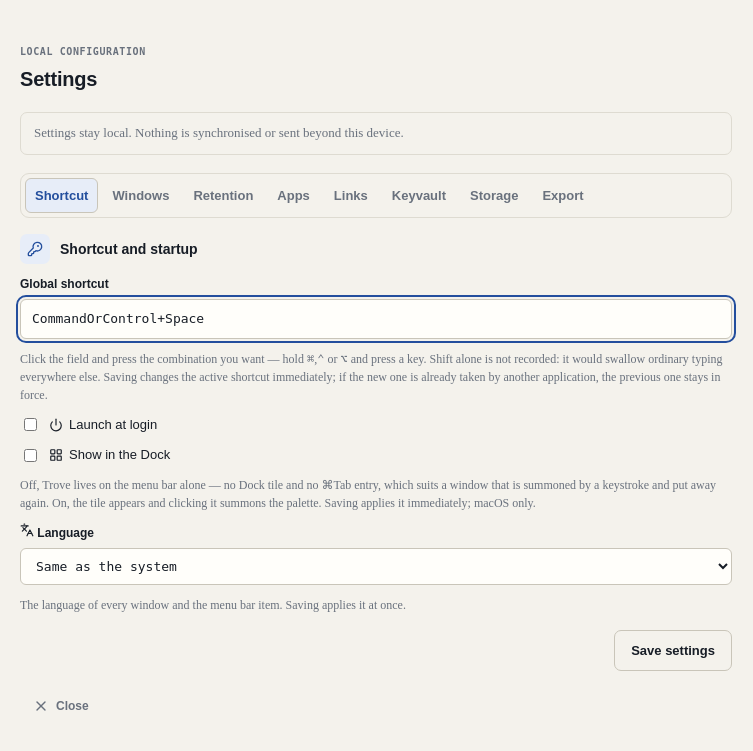
settings tabs › lists every snap position with its recorded chord
The image size is (753, 751).
Click the tab "Windows": (141, 196) [102,178,179,213]
(page scrolled)
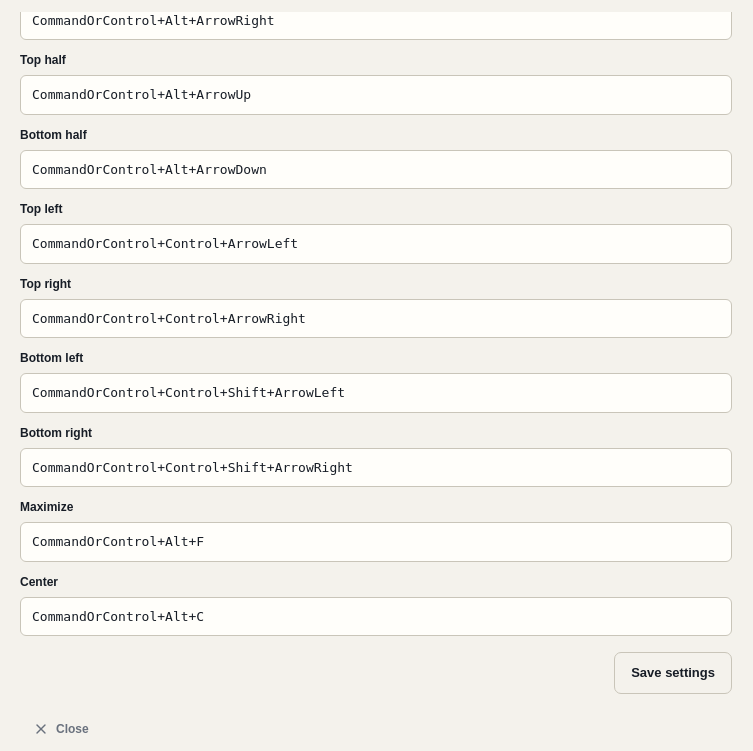
Result: the field labelled "Right half" holds "CommandOrControl+Alt+ArrowRight" at [20,12,732,40]
Result: the field labelled "Top half" holds "CommandOrControl+Alt+ArrowUp" at [20,75,732,115]
Result: the field labelled "Bottom half" holds "CommandOrControl+Alt+ArrowDown" at [20,150,732,189]
